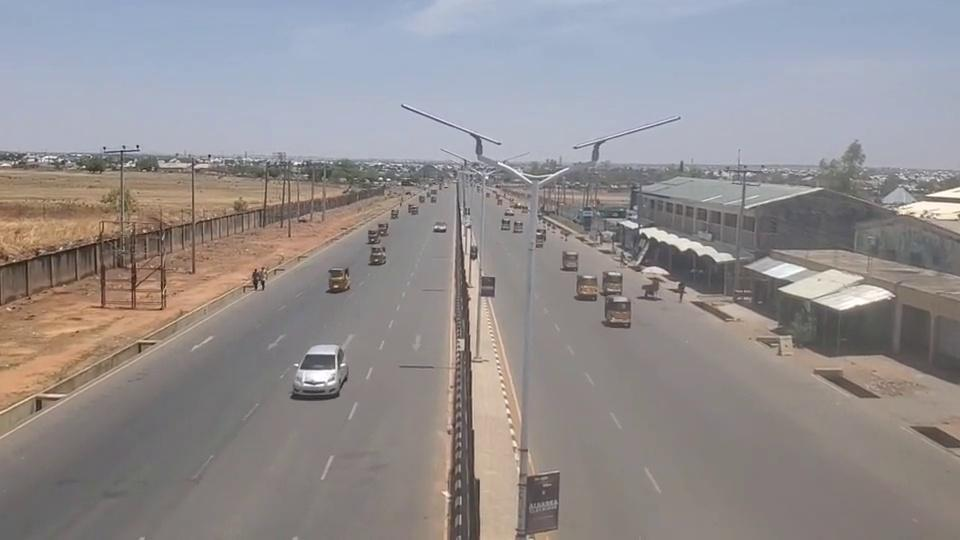car: (293, 343, 348, 396)
keke: (604, 295, 631, 327), (327, 266, 350, 291), (576, 274, 598, 300), (601, 270, 623, 295), (369, 245, 387, 265), (561, 250, 578, 271), (535, 228, 546, 246)
